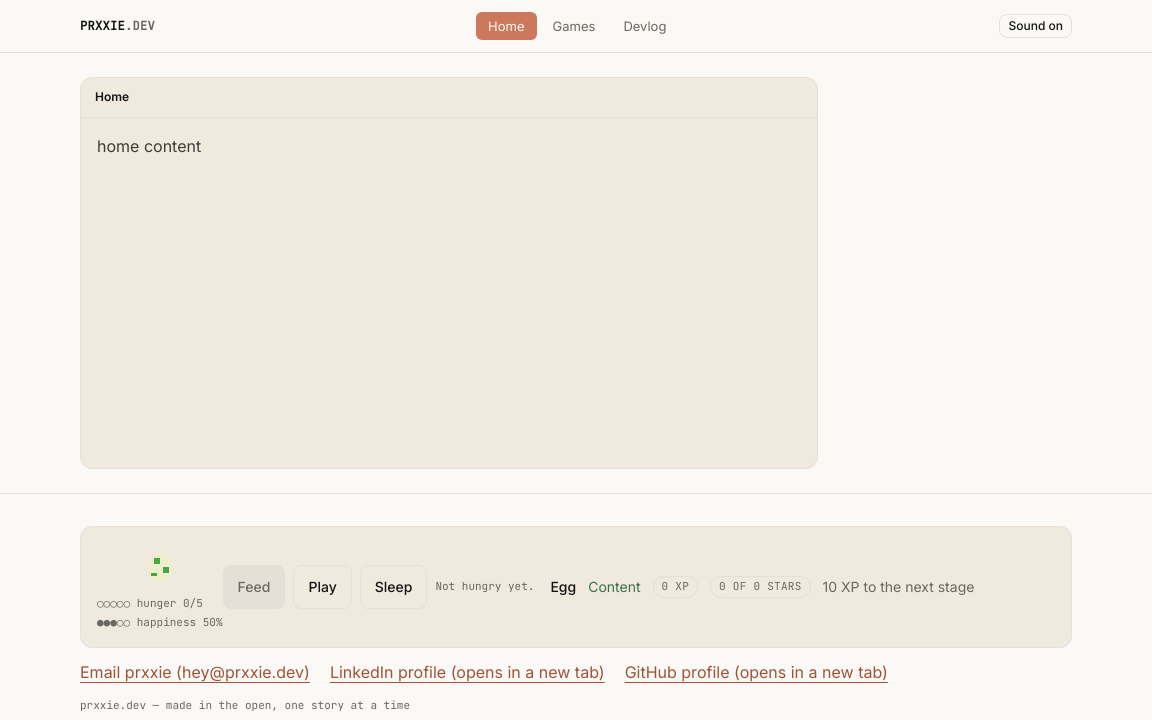
Scenario: shell regions › moves focus to the main region on a route change
The width and height of the screenshot is (1152, 720).
Click the link "Devlog" at (645, 26), box x1=623 y1=18 x2=666 y2=34
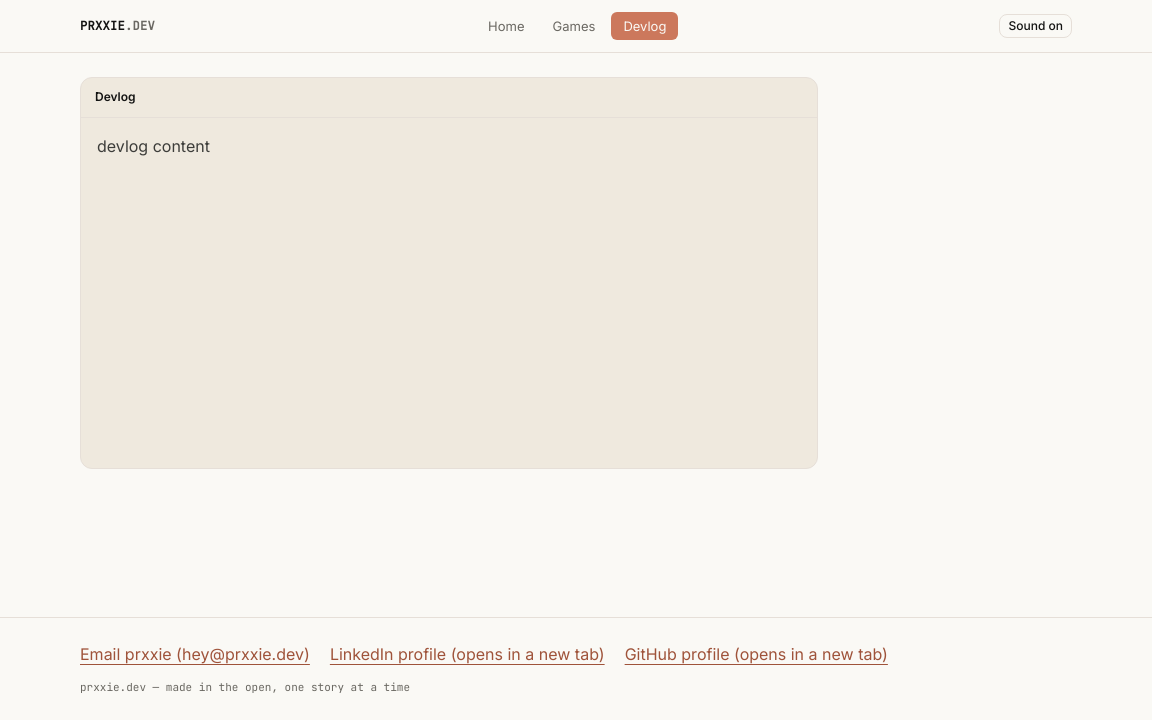
Check: the text "devlog content" is shown, box x1=97 y1=136 x2=210 y2=156
